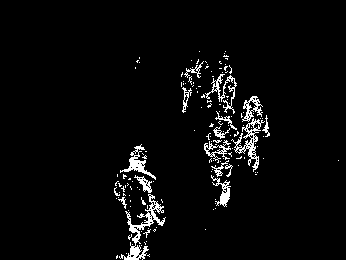person: (111, 145, 167, 260), (202, 112, 240, 208), (239, 94, 271, 176), (194, 61, 214, 109), (218, 66, 237, 111), (179, 67, 192, 113)
